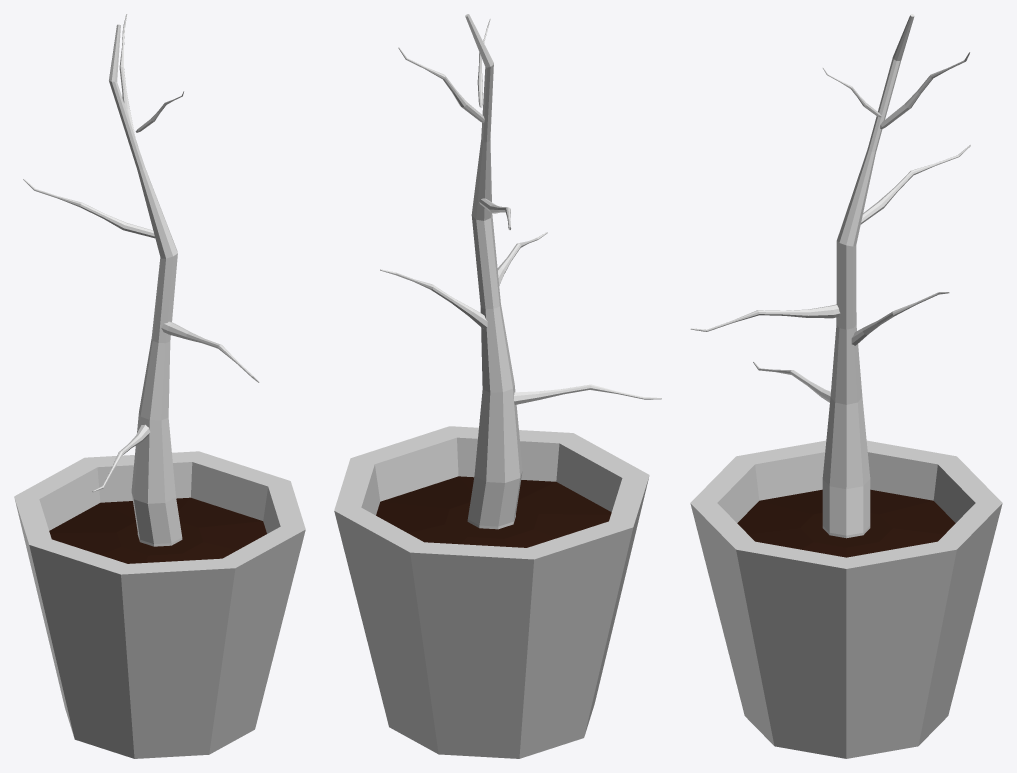
The model's file is Plant.fbx.
3 renders of one model, left to right at view 1: azimuth 30°, elevation 25°; view 2: azimuth 150°, elevation 25°; view 3: azimuth 270°, elevation 25°, orthographic. The views are drawn at different scales.
Parts seen in each view (by area): view 1: Pot, Cylinder, Dirt; view 2: Pot, Cylinder, Dirt; view 3: Pot, Cylinder, Dirt.
Boxes of the visible parts, bbox=[...] form: Pot: bbox=[14, 451, 305, 758]; Cylinder: bbox=[23, 14, 259, 546]; Dirt: bbox=[49, 497, 266, 563]; Pot: bbox=[334, 426, 649, 758]; Cylinder: bbox=[380, 14, 661, 529]; Dirt: bbox=[376, 476, 611, 547]; Pot: bbox=[690, 440, 1002, 758]; Cylinder: bbox=[690, 14, 970, 538]; Dirt: bbox=[737, 489, 955, 557].
Size of the model in its own units: 56.41 by 139 by 56.41.
